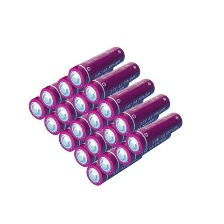battery: (93, 76, 158, 124), (64, 43, 128, 90), (81, 59, 142, 106), (109, 92, 171, 136), (85, 144, 143, 189), (124, 111, 184, 152), (87, 91, 147, 132), (42, 91, 96, 135), (37, 67, 90, 111), (114, 127, 168, 169), (29, 74, 77, 121), (84, 93, 143, 131), (68, 97, 121, 139), (57, 112, 111, 153), (56, 54, 104, 100), (82, 124, 135, 158), (97, 136, 142, 176), (70, 76, 113, 117), (72, 128, 117, 166), (101, 110, 146, 141)
